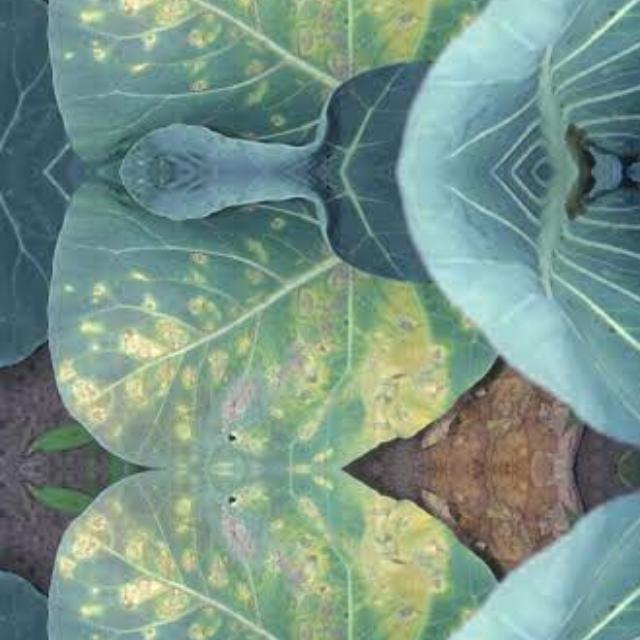Downy_mildew: (44, 175, 516, 461), (44, 0, 516, 167), (44, 476, 516, 640)
